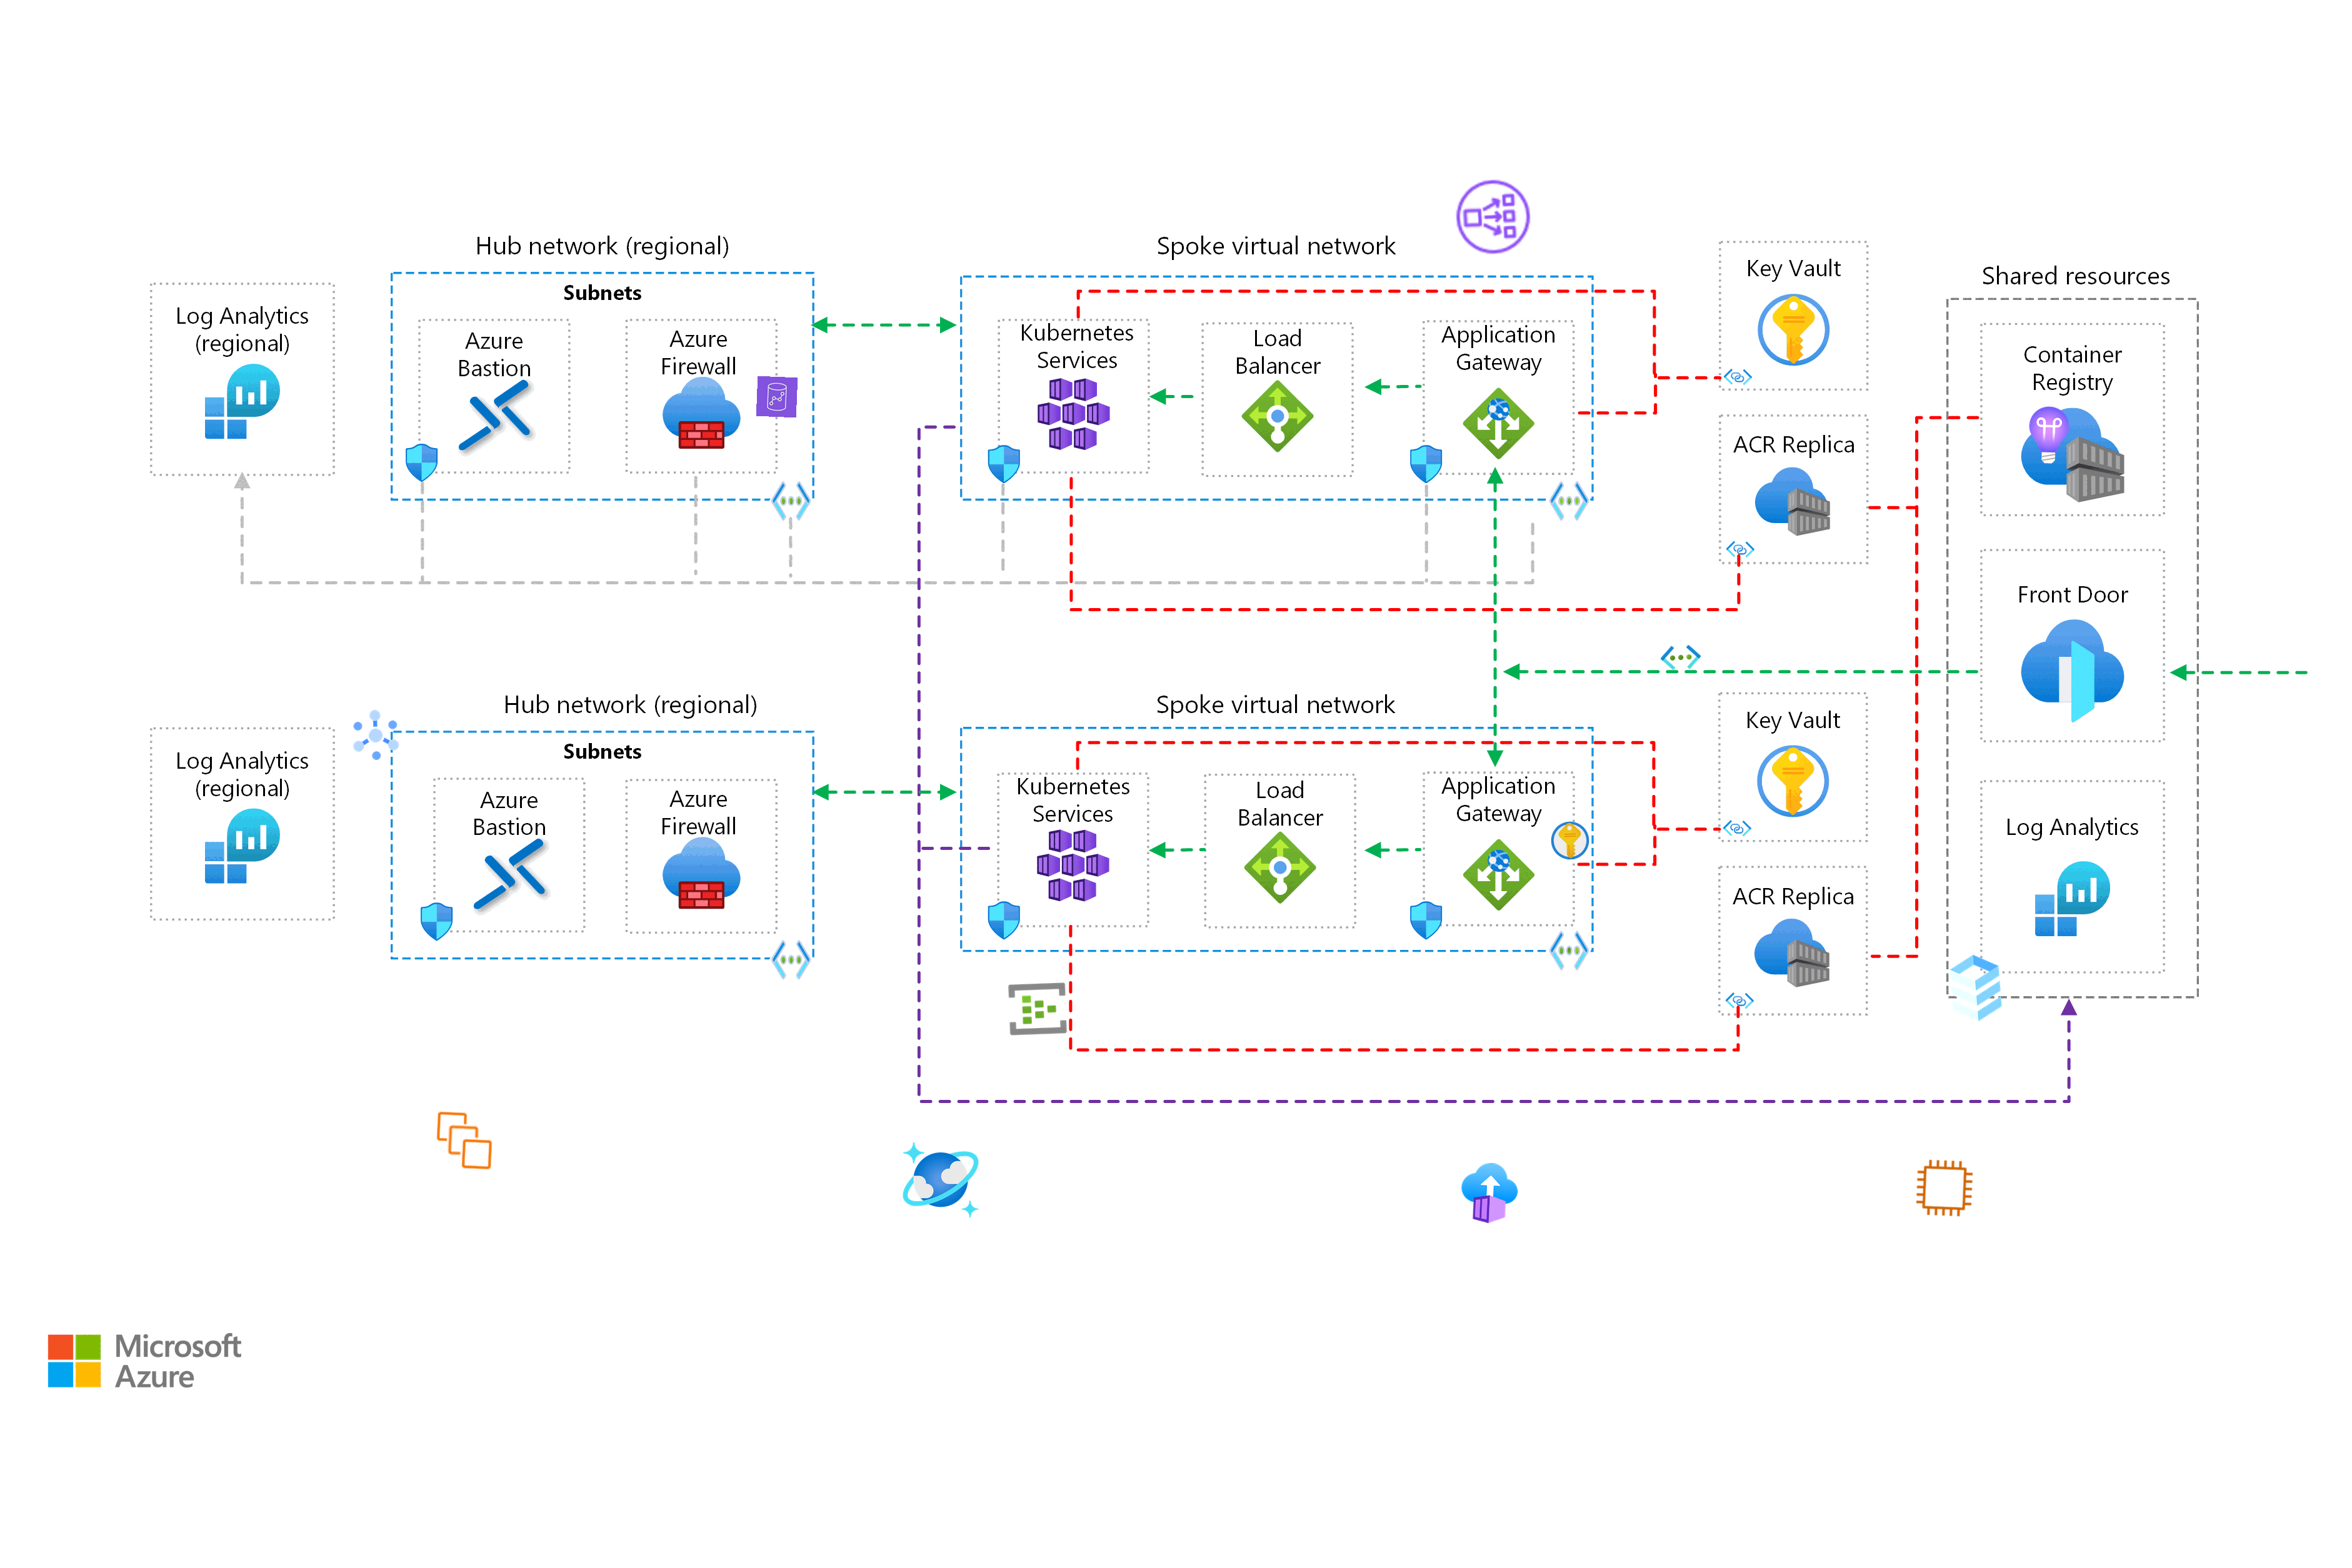aws_amazon_redshift: (756, 376, 798, 418)
aws_ec2_instance: (1913, 1157, 1976, 1220)
aws_ec2_instances: (432, 1109, 497, 1172)
aws_elastic_load_balancing_network_load_balancer: (1451, 175, 1536, 259)
azure_application_insights: (2018, 404, 2081, 465)
azure_container_instances: (1458, 1162, 1521, 1225)
azure_cosmos_db: (899, 1139, 982, 1220)
azure_event_hubs: (1006, 978, 1069, 1039)
azure_key_vaults: (1549, 819, 1591, 861)
azure_virtual_networks: (1659, 637, 1703, 679)
gcp_cloud_sql: (1932, 945, 2019, 1032)
gcp_pubsub: (345, 703, 408, 766)
